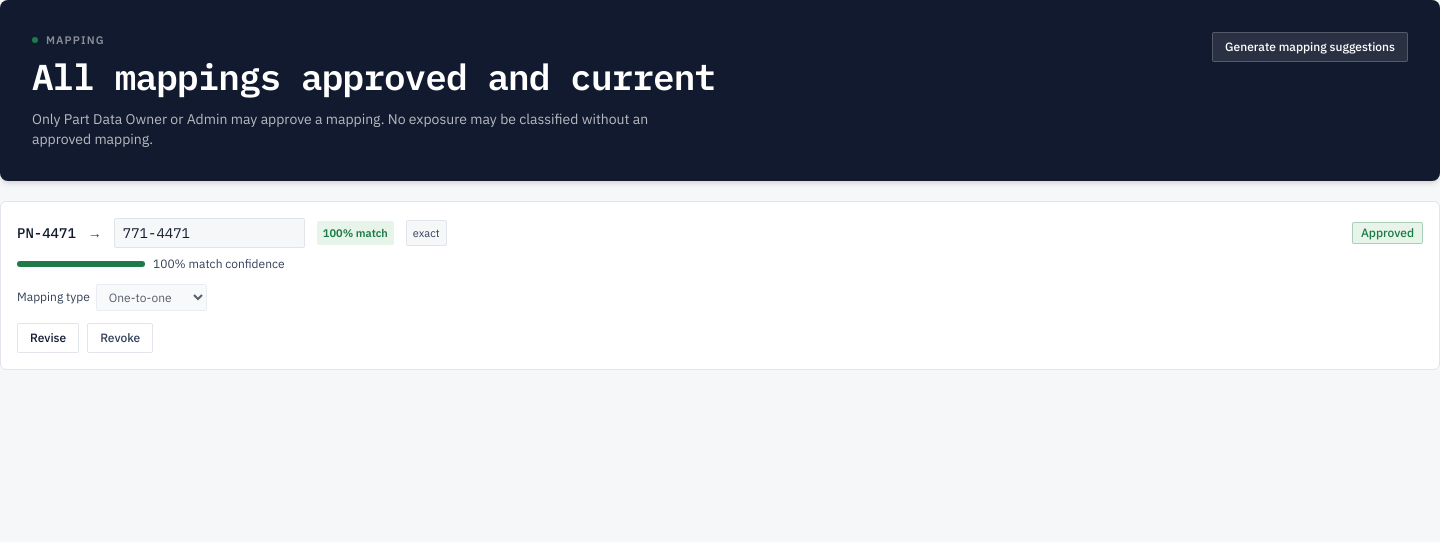
Test: MappingClient › RevisionControls › shows the server's error message instead of silence when a revision fails
The width and height of the screenshot is (1440, 542).
Click the button "Revise".
click(48, 338)  # box [17,322,79,352]
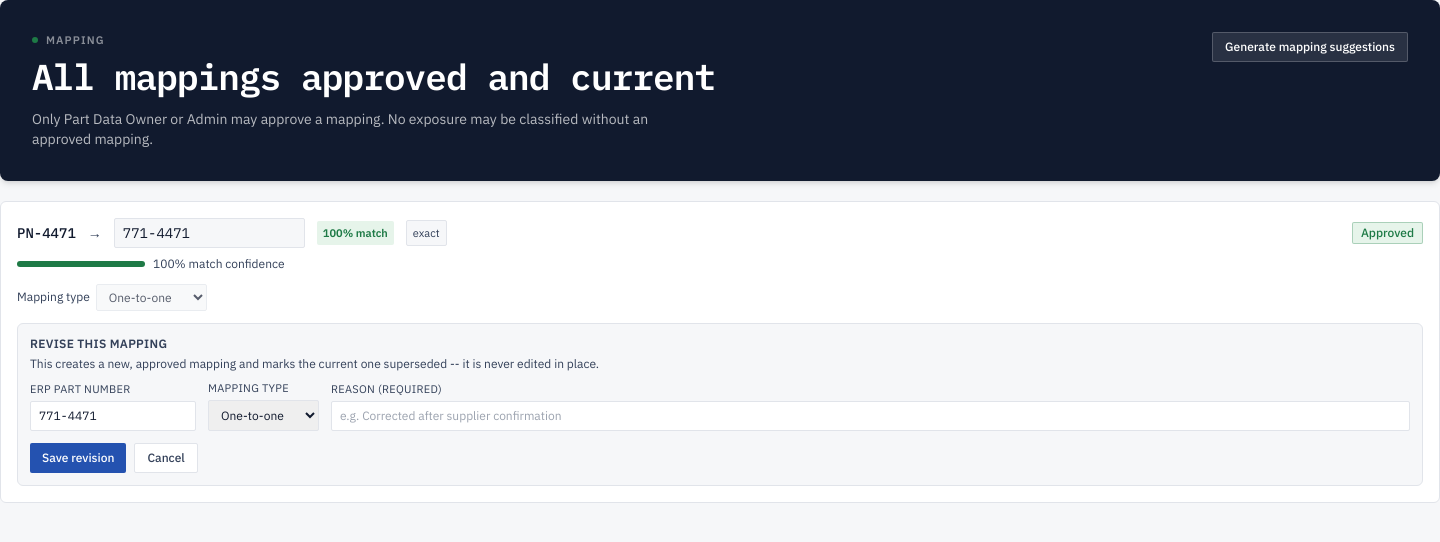
Type "test reason" into the field labelled "Reason (required)".
click(870, 416); type("test reason")  # box [331,401,1410,431]
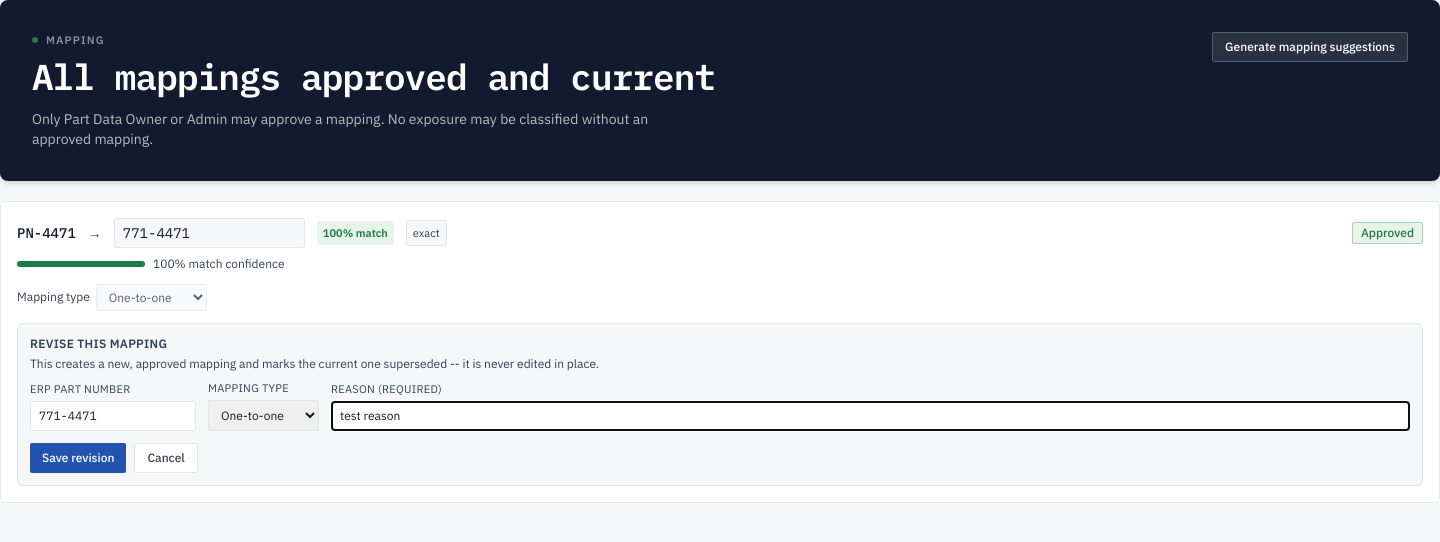
Click the button "Save revision".
click(78, 458)  # box [30,443,126,473]
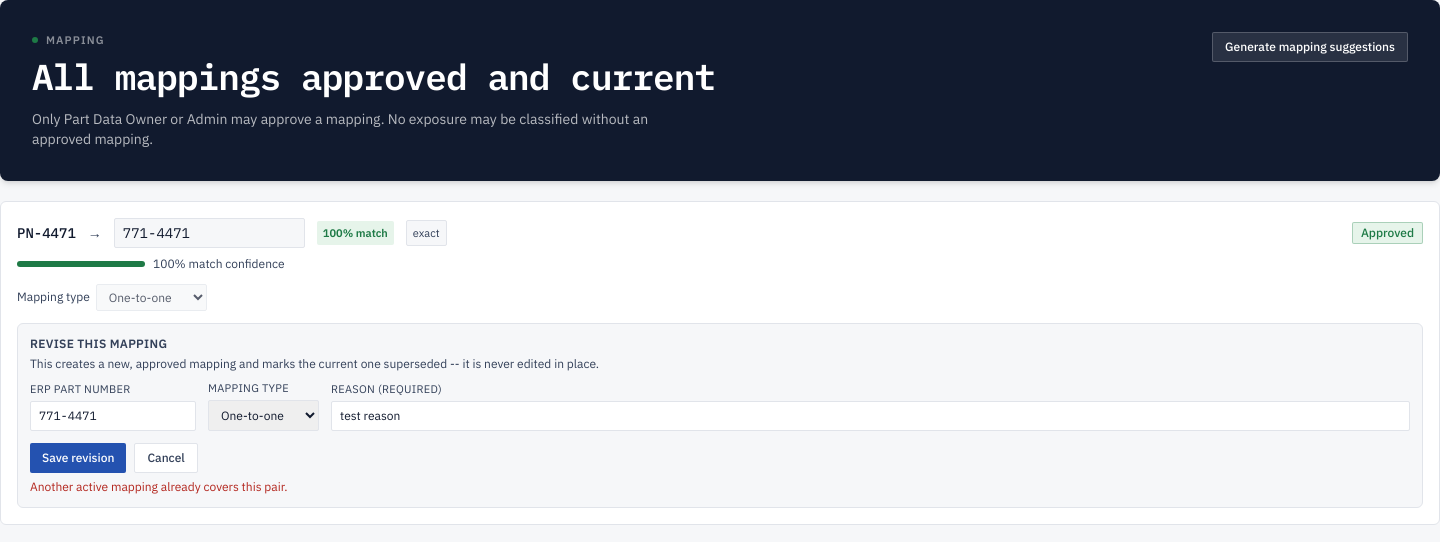
Now the text "Another active mapping already covers this pair." is shown, box [30,479,287,494]
